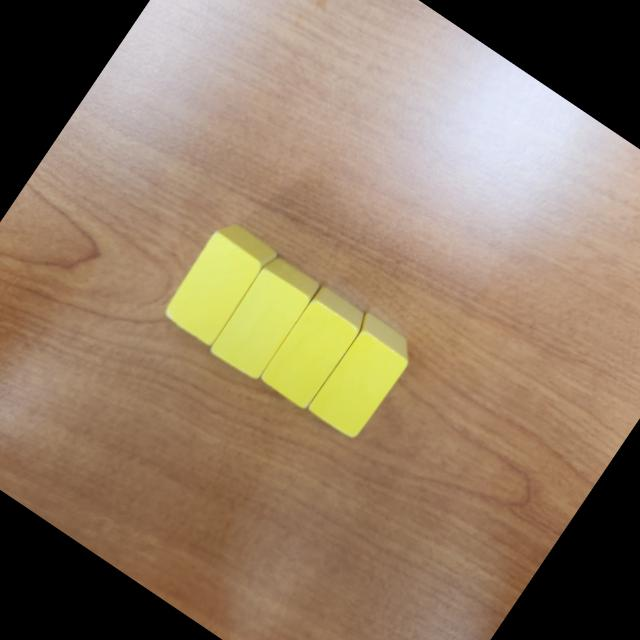yellow: (158, 214, 280, 350), (300, 311, 420, 444), (206, 252, 322, 384), (257, 284, 370, 412)
